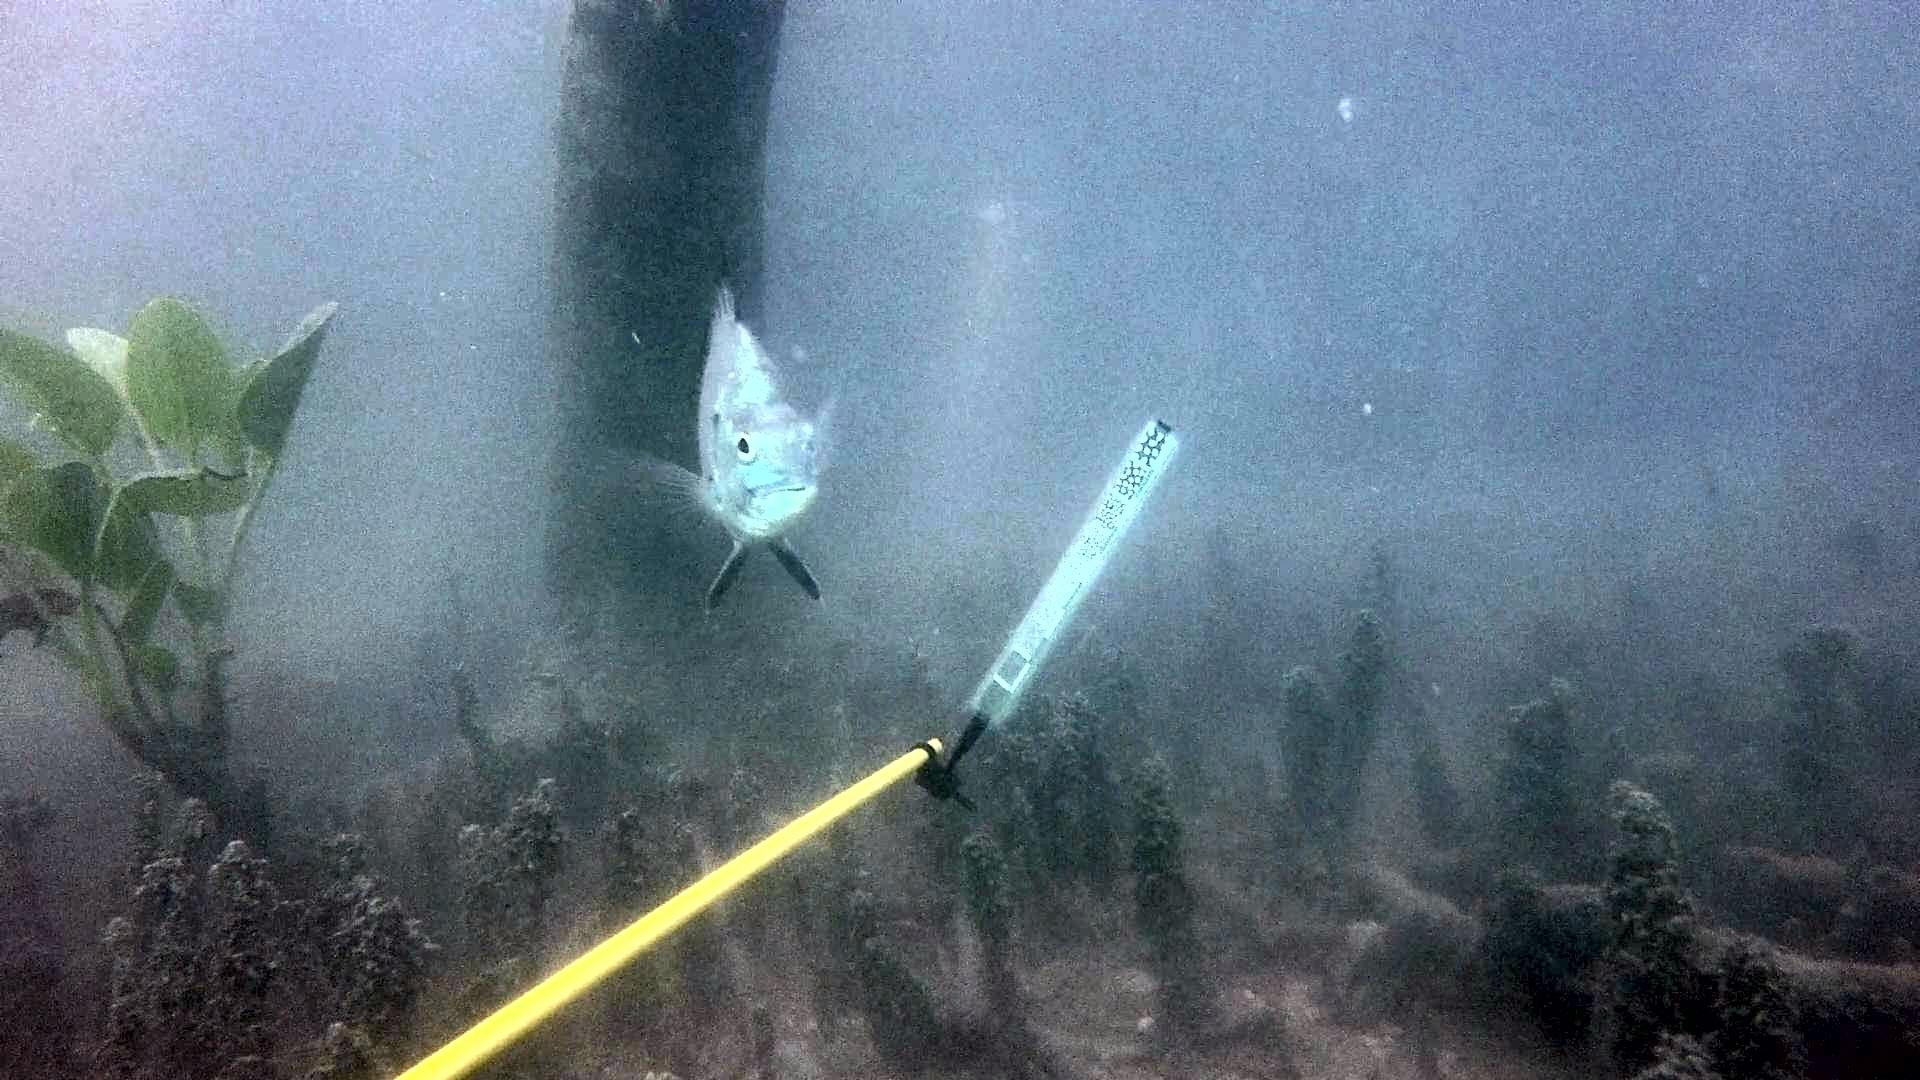acanthopagrus palmaris: (576, 251, 880, 618)
